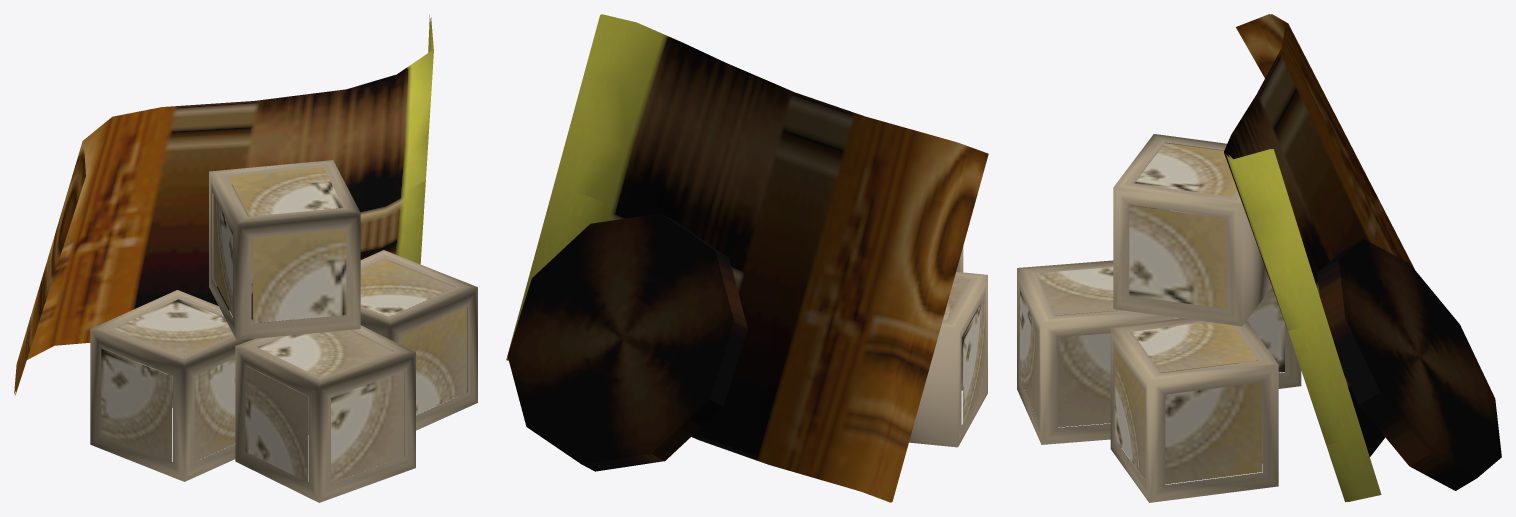
The model's file is mc.ico.obj.
3 views of the same model, side by side, from view 1: azimuth 30°, elevation 25°; view 2: azimuth 150°, elevation 25°; view 3: azimuth 270°, elevation 25° (orthographic). The views are drawn at different scales.
Size of the model in its own units: 4.97 by 4.15 by 4.94.
